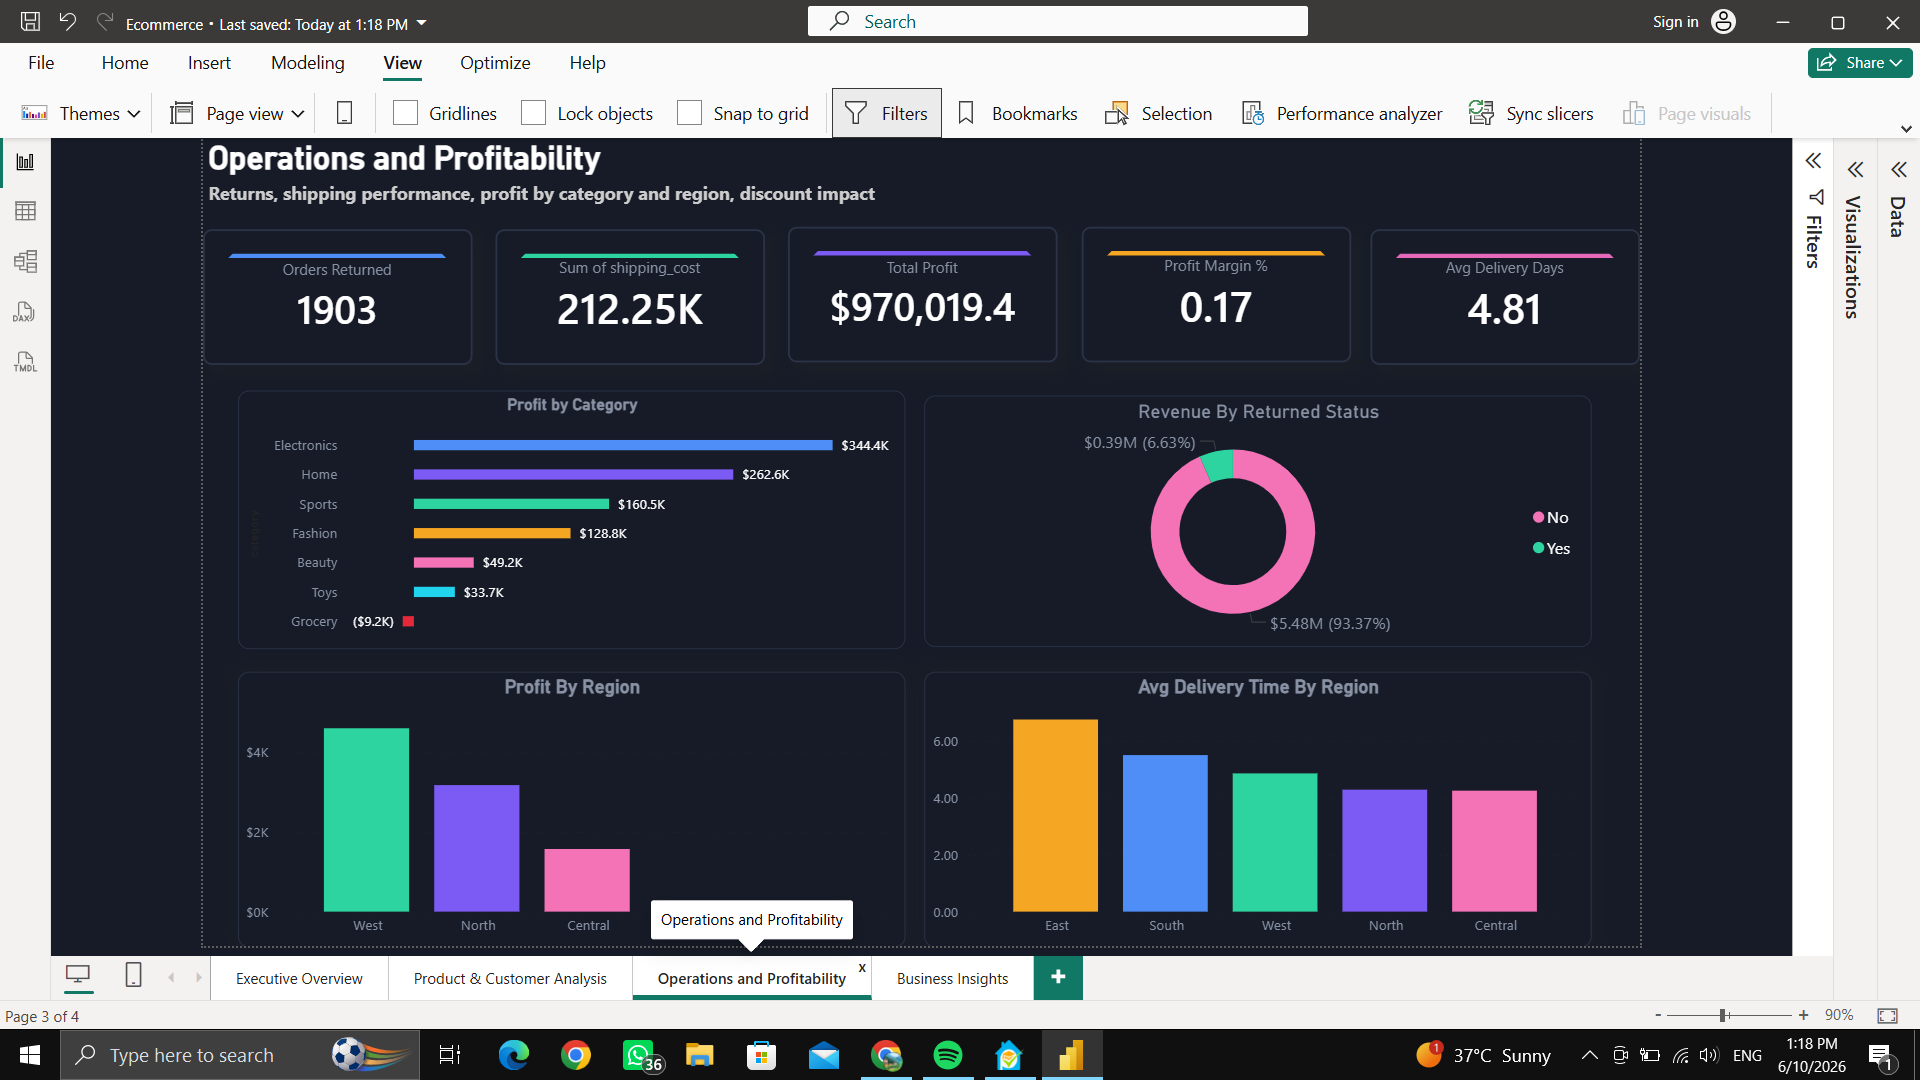

Layout of this report page (visuals, bound fields, positions):
{"tool":"powerbi","page":{"name":"Operations and Profitability","canvas":[1280,720],"ordinal":2},"visuals":[{"type":"clusteredBarChart","title":"Profit by Category","fields":{"Y":["Measures-1.Total Profit"],"Category":["Ecommerce.category"]},"box":[31.6,225,594.2,230.5],"z":0},{"type":"textbox","title":"Operations and Profitability","box":[0,0,1280.3,67.2],"z":1000},{"type":"cardVisual","fields":{"Data":["Measures-1.Orders Returned"]},"box":[0,81,240.1,120.8],"z":2000},{"type":"cardVisual","fields":{"Data":["Sum(Ecommerce.shipping_cost)"]},"box":[260.7,81,240.1,120.8],"z":3000},{"type":"cardVisual","fields":{"Data":["Measures-1.Total Profit"]},"box":[521.4,79.6,240.1,120.8],"z":4000},{"type":"cardVisual","fields":{"Data":["Measures-1.Profit Margin %"]},"box":[782.2,79.6,240.1,120.8],"z":5000},{"type":"cardVisual","fields":{"Data":["Avg(Ecommerce.delivery_time_days)"]},"box":[1040.1,81,240.1,120.8],"z":5001},{"type":"donutChart","title":"Revenue By Returned Status","fields":{"Y":["Measures (2).Total Revenue"],"Category":["Returns.returned"]},"box":[642.2,229.2,594.2,223.7],"z":5002},{"type":"clusteredColumnChart","title":"Profit By Region","fields":{"Y":["Measures-1.Total Profit"],"Category":["Ecommerce.region"]},"box":[31.6,474.8,594.2,245.6],"z":5003},{"type":"clusteredColumnChart","title":"Avg Delivery Time By Region","fields":{"Category":["Ecommerce.region"],"Y":["Avg(Ecommerce.delivery_time_days)"]},"box":[642.2,474.8,594.2,245.6],"z":5004}]}

Visuals, with their boxes on the page's 1280x720 design canvas (x1, y1, x2, y2). These are canvas units, not pixel positions in the 1920x1080 screenshot, which may show the page scaled, cropped or inside an application window:
"Profit by Category" clusteredBarChart: <box>32,225,626,456</box>
"Operations and Profitability" textbox: <box>0,0,1280,67</box>
cardVisual - Measures-1.Orders Returned: <box>0,81,240,202</box>
cardVisual - Sum(Ecommerce.shipping_cost): <box>261,81,501,202</box>
cardVisual - Measures-1.Total Profit: <box>521,80,762,200</box>
cardVisual - Measures-1.Profit Margin %: <box>782,80,1022,200</box>
cardVisual - Avg(Ecommerce.delivery_time_days): <box>1040,81,1280,202</box>
"Revenue By Returned Status" donutChart: <box>642,229,1236,453</box>
"Profit By Region" clusteredColumnChart: <box>32,475,626,720</box>
"Avg Delivery Time By Region" clusteredColumnChart: <box>642,475,1236,720</box>
